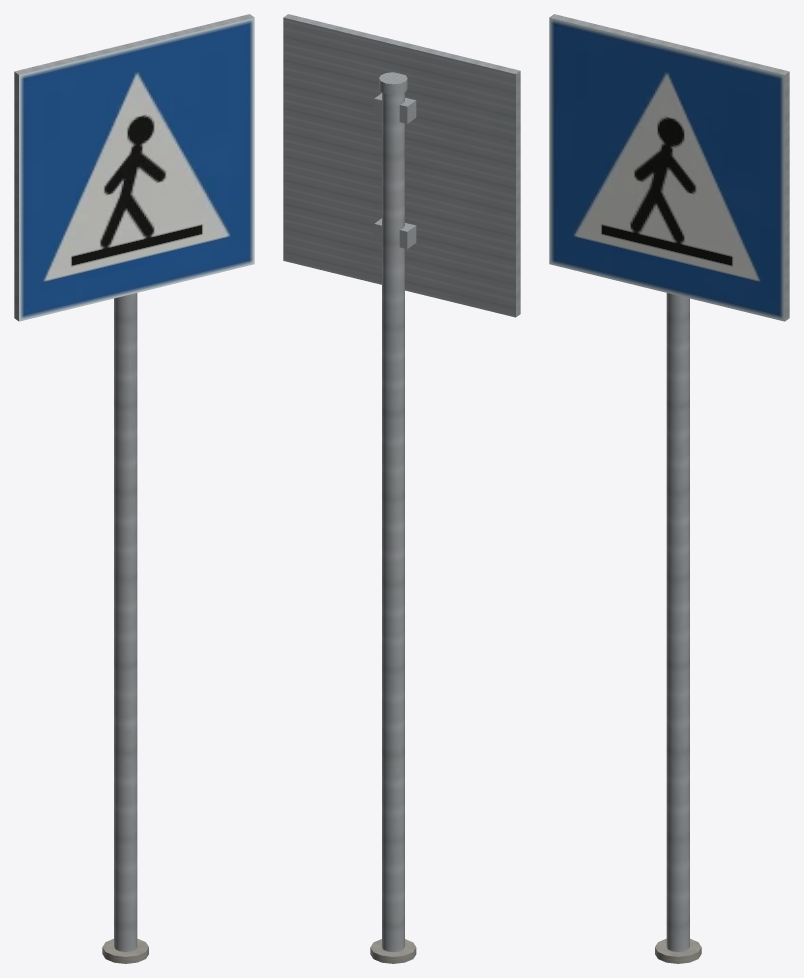
The model's file is panneau_passage_pieton_lod0.glb.
The picture shows the model from 3 angles, left to right: view 1: azimuth 30°, elevation 25°; view 2: azimuth 150°, elevation 25°; view 3: azimuth 330°, elevation 25°; orthographic projection.
Parts seen in each view (by area): view 1: panneau_passage_pieton; view 2: panneau_passage_pieton; view 3: panneau_passage_pieton.
Boxes of the visible parts, left/top/right/bottom form: panneau_passage_pieton: left=14, top=14, right=254, bottom=963; panneau_passage_pieton: left=283, top=14, right=520, bottom=963; panneau_passage_pieton: left=549, top=14, right=789, bottom=963.
Size of the model in its own units: 0.7 by 2.6 by 0.12.
Materials: 1 (1 with a texture image).
